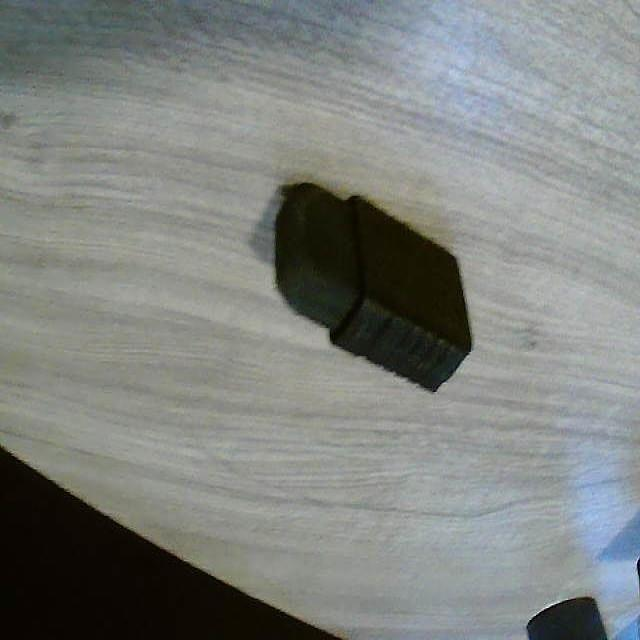borracha: (270, 156, 485, 402)
